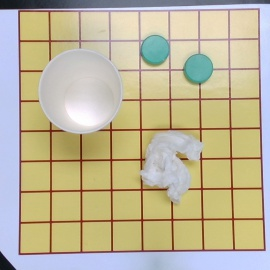cup: (37, 48, 123, 135)
green: (184, 53, 213, 82), (142, 34, 169, 63)
